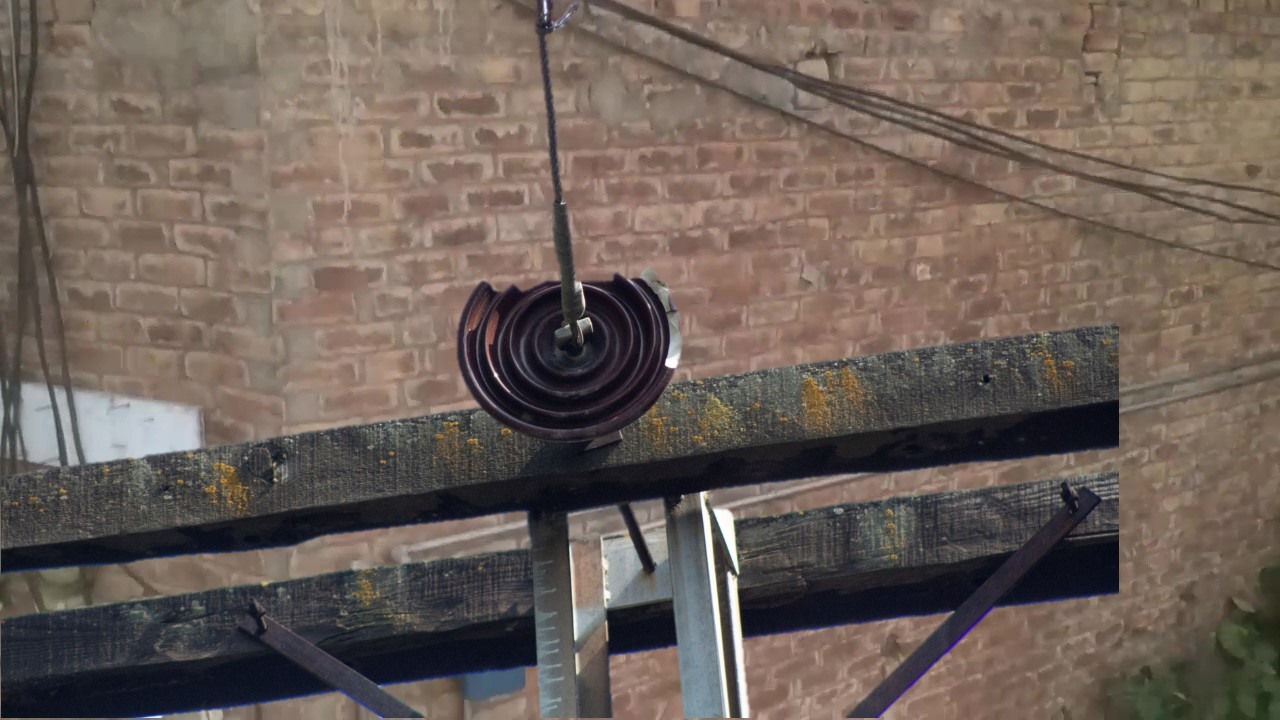defect_disc: (451, 268, 685, 449)
